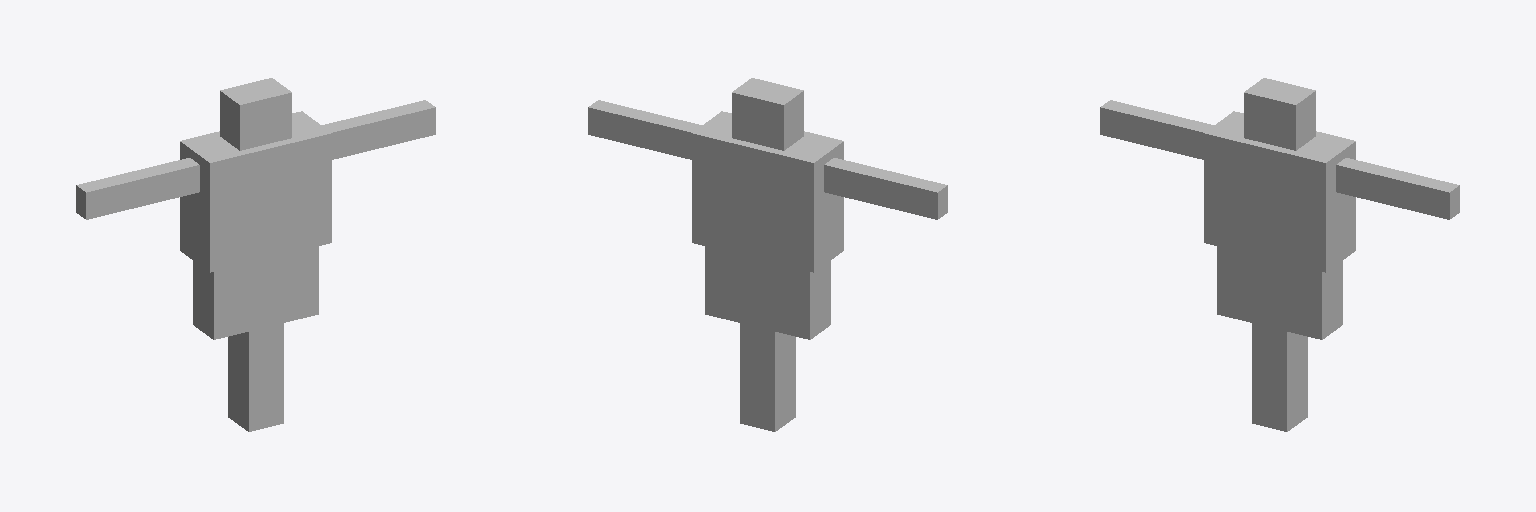
The model's file is Training Dummy.obj.
3 views of the same model, side by side, from view 1: azimuth 30°, elevation 25°; view 2: azimuth 150°, elevation 25°; view 3: azimuth 330°, elevation 25° (orthographic).
Parts seen in each view (by area): view 1: Training Dummy; view 2: Training Dummy; view 3: Training Dummy.
Part boxes in pixels (x1,y1,x2,y2): Training Dummy: (76, 78, 435, 431); Training Dummy: (588, 78, 947, 431); Training Dummy: (1100, 78, 1459, 431).
Bounding box in the file's own units: 40 × 36 × 6.